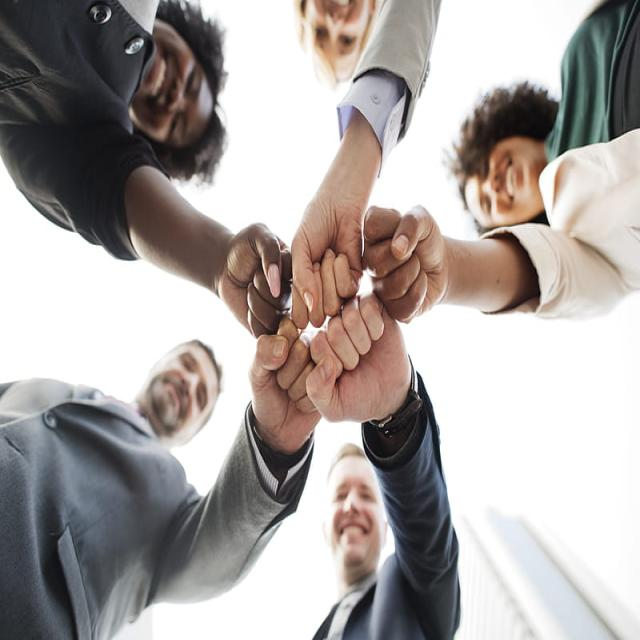adult: (1, 327, 322, 640), (0, 8, 290, 330), (369, 1, 640, 297), (298, 292, 458, 640), (279, 0, 443, 296)
